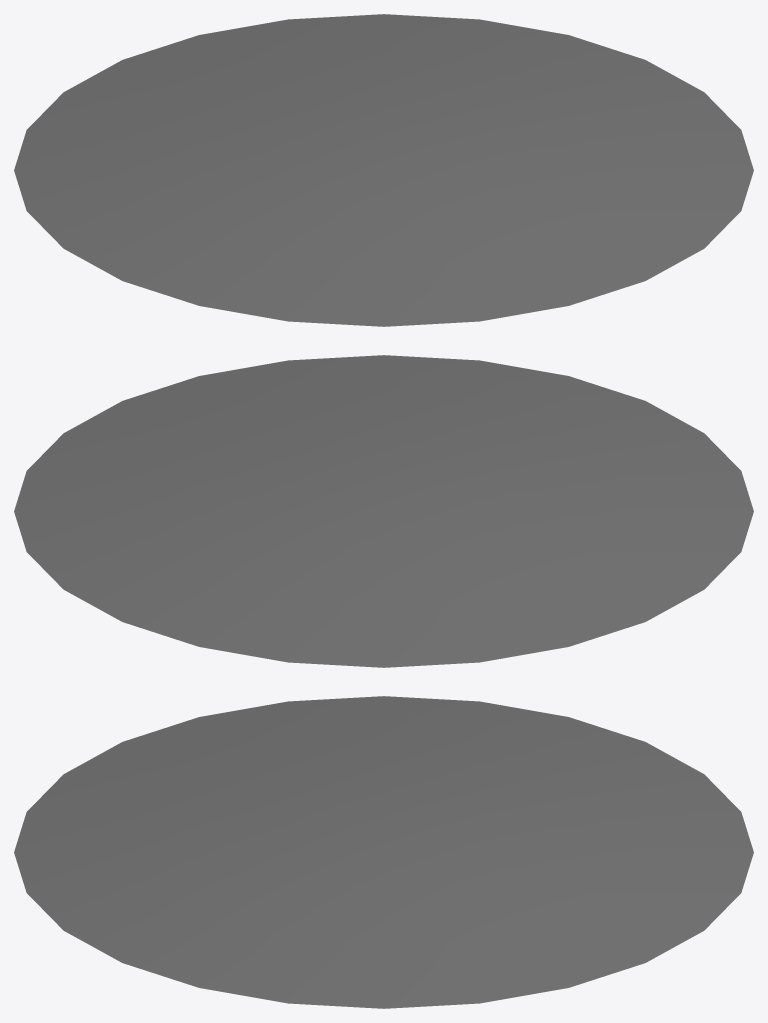
The model's file is Alnair_Parachute_1_Cap.obj.
The picture shows the model from 3 angles, top to bottom: view 1: azimuth 30°, elevation 25°; view 2: azimuth 150°, elevation 25°; view 3: azimuth 270°, elevation 25°; orthographic projection.
Visible parts, largest first — view 1: Alnair_Parachute_1_Cap; view 2: Alnair_Parachute_1_Cap; view 3: Alnair_Parachute_1_Cap.
Boxes of the visible parts, <box> form: Alnair_Parachute_1_Cap: <box>14,14,753,326</box>; Alnair_Parachute_1_Cap: <box>14,355,753,667</box>; Alnair_Parachute_1_Cap: <box>14,696,753,1008</box>.
Bounding box in the file's own units: 0.875 × 0.0312 × 0.875.
